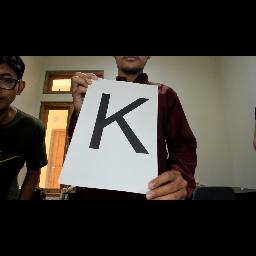k: (88, 91, 152, 161)
